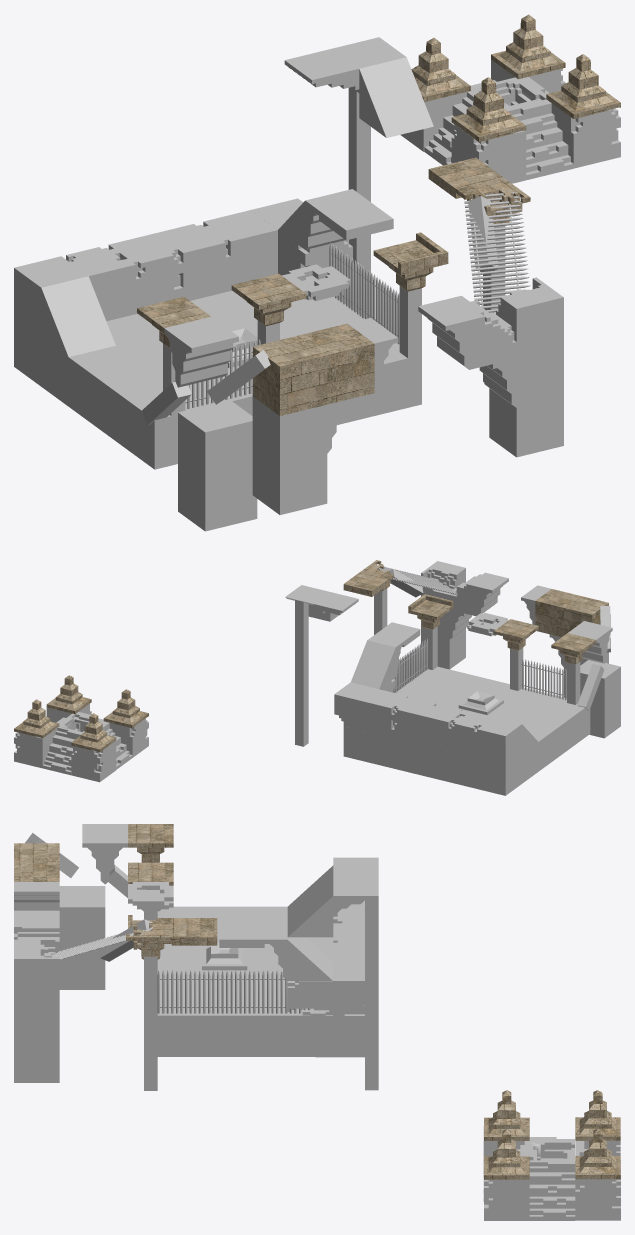
File: Level_5.fbx
3 renders of one model, top to bottom at view 1: azimuth 30°, elevation 25°; view 2: azimuth 150°, elevation 25°; view 3: azimuth 270°, elevation 25°, orthographic. The views are drawn at different scales.
Visible parts, largest first — view 1: Ground, Cube1.004, PrefForAll.001, Cube.003, Cube.005, Ramp.002, Ramp.001, PrefForAll.002, Cube.006, Cube1.003, Cube.002, Cube1.002 (+42 smaller); view 2: Ground, Cube1.004, Column.008, PrefForAll.003, Ramp1, Cube.002, Cube1.010, Cube1.002, Cube.006, Cube1.001, Cube1.003, Cube.001 (+37 smaller); view 3: Ground, Cube1.004, Cube.003, Stairs1.008, Column.008, PrefForAll.002, Fence.006, Cube1.009, Cube1.007, Ramp.002, Column.005, Cube.001 (+28 smaller).
Part boxes in pixels (x1=…): Ground: x1=14, y1=290, x2=421, y2=469; Cube1.004: x1=178, y1=400, x2=257, y2=531; PrefForAll.001: x1=252, y1=396, x2=327, y2=514; Cube.003: x1=489, y1=347, x2=563, y2=457; Cube.005: x1=252, y1=335, x2=327, y2=415; Ramp.002: x1=359, y1=57, x2=433, y2=137; Ramp.001: x1=41, y1=276, x2=115, y2=356; PrefForAll.002: x1=494, y1=277, x2=563, y2=358; Cube.006: x1=300, y1=323, x2=374, y2=404; Cube1.003: x1=156, y1=224, x2=230, y2=300; Cube.002: x1=203, y1=210, x2=277, y2=290; Cube1.002: x1=108, y1=233, x2=183, y2=313; Ground: x1=343, y1=666, x2=590, y2=795; Cube1.004: x1=580, y1=660, x2=620, y2=738; Column.008: x1=295, y1=599, x2=308, y2=746; PrefForAll.003: x1=477, y1=717, x2=521, y2=765; Ramp1: x1=351, y1=640, x2=395, y2=688; Cube.002: x1=362, y1=689, x2=407, y2=737; Cube1.010: x1=71, y1=741, x2=116, y2=782; Cube1.002: x1=420, y1=704, x2=462, y2=751; Cube.006: x1=535, y1=589, x2=579, y2=637; Cube1.001: x1=448, y1=710, x2=493, y2=758; Cube1.003: x1=391, y1=697, x2=436, y2=744; Cube.001: x1=334, y1=682, x2=378, y2=730; Ground: x1=157, y1=906, x2=364, y2=1057; Cube1.004: x1=59, y1=886, x2=105, y2=989; Cube.003: x1=14, y1=1000, x2=59, y2=1082; Stairs1.008: x1=529, y1=1160, x2=575, y2=1220; Column.008: x1=365, y1=896, x2=378, y2=1090; PrefForAll.002: x1=14, y1=939, x2=59, y2=1000; Fence.006: x1=157, y1=970, x2=232, y2=1013; Cube1.009: x1=575, y1=1160, x2=620, y2=1220; Cube1.007: x1=484, y1=1179, x2=529, y2=1220; Ramp.002: x1=287, y1=877, x2=333, y2=937; Column.005: x1=144, y1=956, x2=157, y2=1090; Cube.001: x1=333, y1=961, x2=364, y2=1015.
Size of the model in its own units: 2843 by 1071 by 2662.
